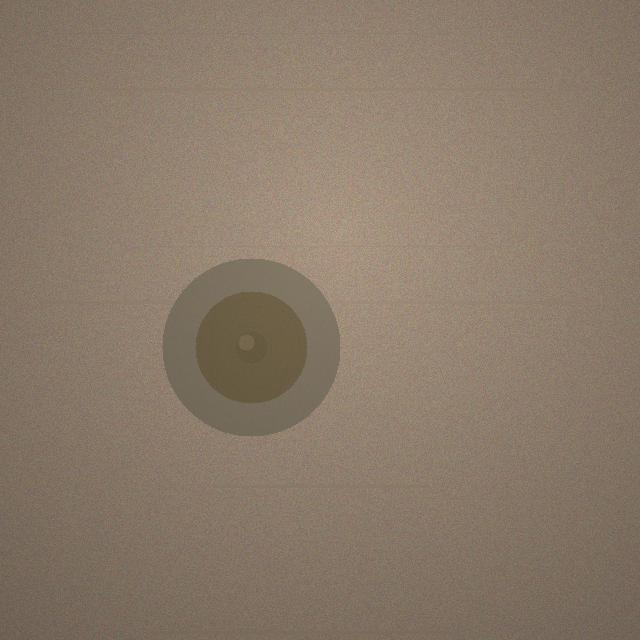good: (162, 258, 340, 436)
